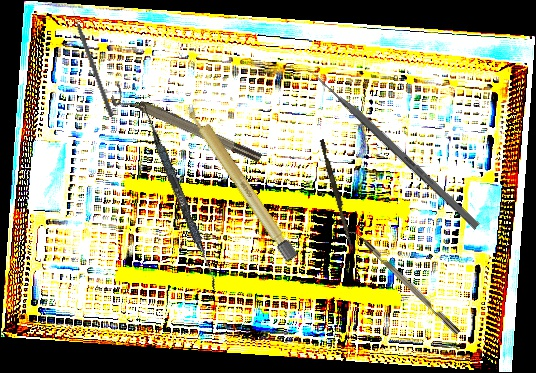Chopper: (344, 224, 461, 341)
Fixation Ring: (108, 83, 264, 172)
Pusher: (303, 63, 481, 230), (69, 4, 115, 118), (316, 138, 358, 251)
Scalpel Handle: (182, 100, 300, 263)
Spatula Surgical: (136, 104, 225, 291)
